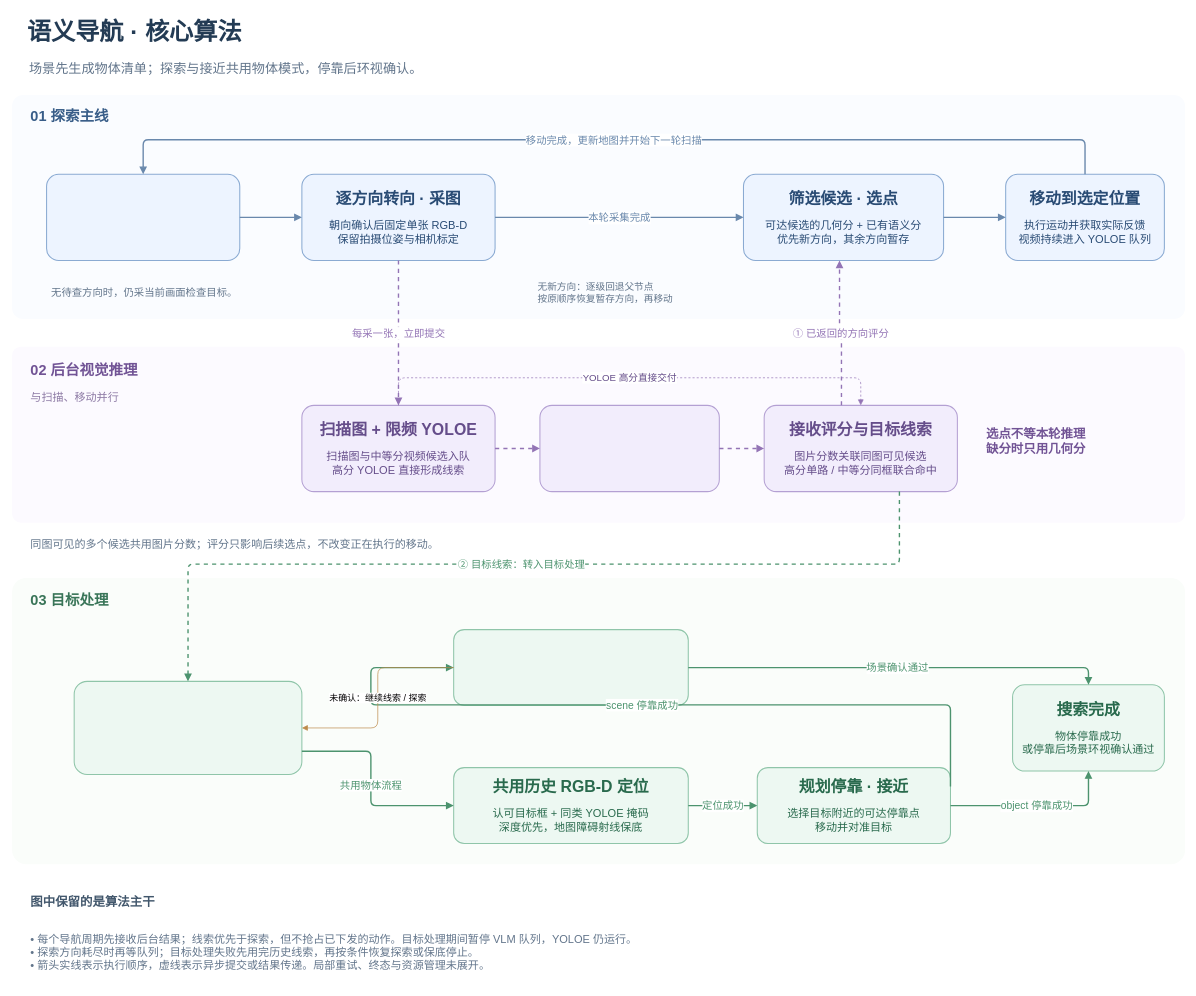
Some shapes in this 1196 by 996 pixel diagram are drawn without their labels. Here are the shapes that lost their labels. From the top down, the centre of each, then its label:
[143,217]: 更新地图 · 规划扫描 提取局部 Frontier 边界 结合已检查 / 待分析覆盖规划方向
[629,448]: VLM 单图推理 原图评分 + 框选 + 置信度 场景任务附带清单内物体类别
[570,667]: 场景尾处理：环视确认 旋转一圈、停稳采图、合图判断 否决：排除入镜线索，继续搜索
[187,728]: 优先处理目标线索 下一个决策周期接收 当前线索失败先尝试其他历史线索
